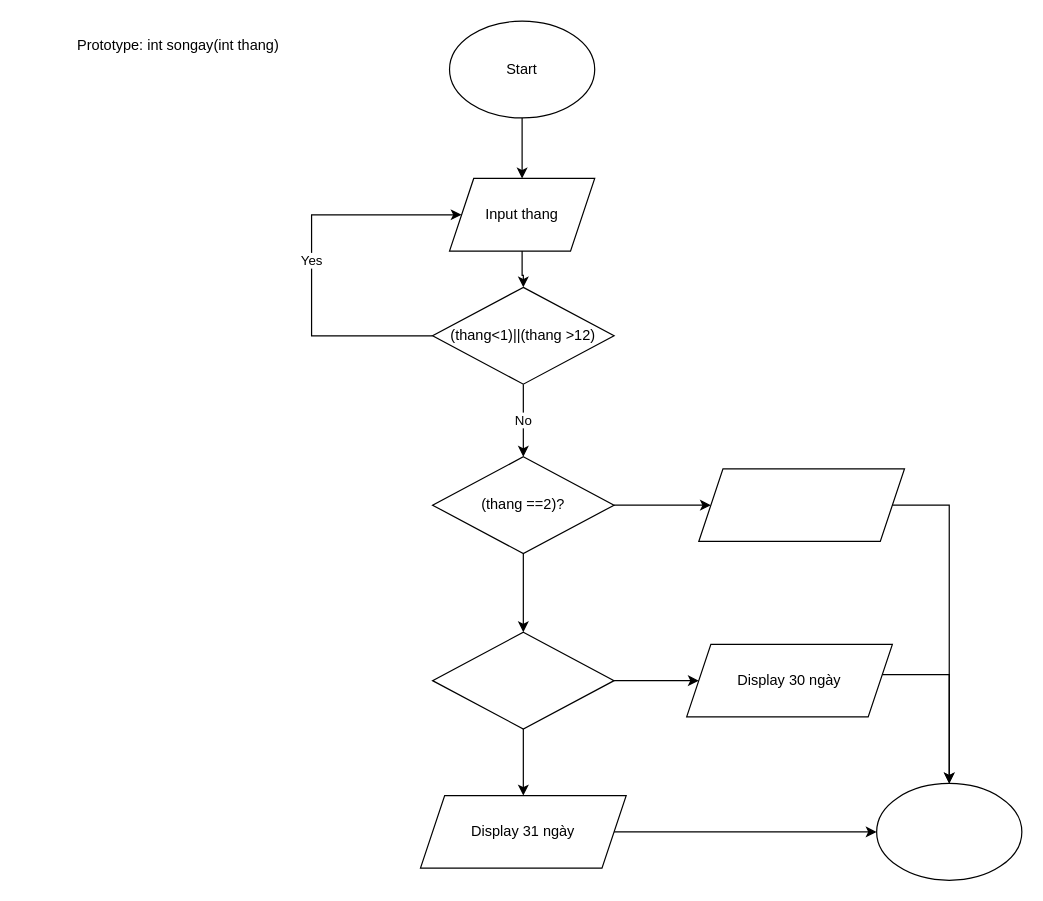
This 1043x901 diagram has some shape labels left out. Here are the shapes that lost their labels. From the top down, the centre of each, then its label:
[801,504]: Display 28 ngày
[522,680]: thang=={4,6,9,11}?
[948,831]: End
